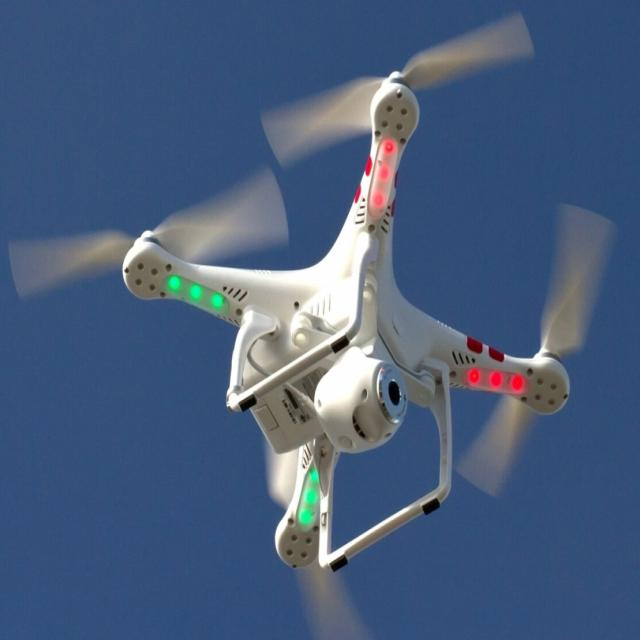drone: (0, 18, 633, 628)
